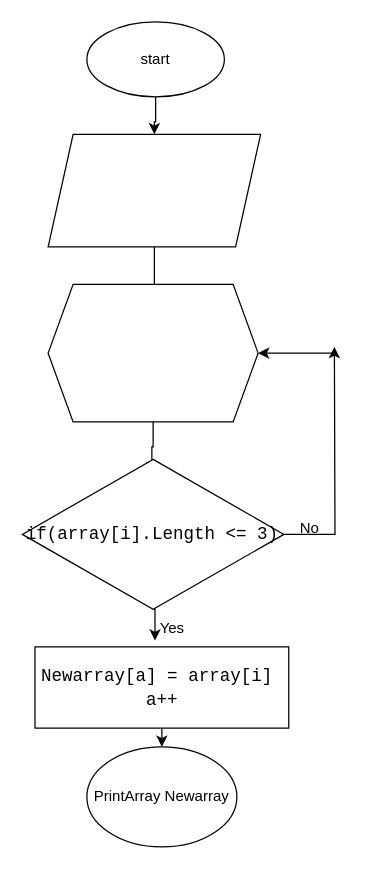
Some shapes in this 368 by 869 pixel diagram are drawn without their labels. Each missing label, with the centre of its shape:
"for ( int i = 0 ; i < array . Length ; i ++)" belongs at [152,352].
"string[] array string[] Newarray int a = 0" belongs at [154,190].
